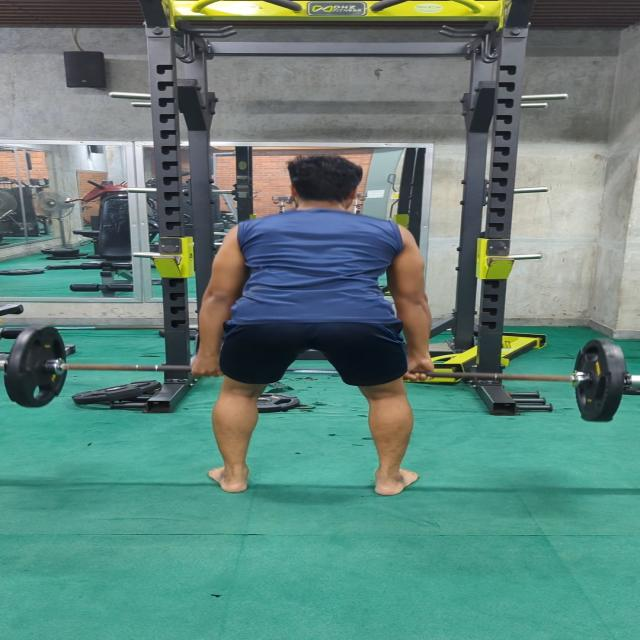Normal_Deadlifts: (188, 157, 432, 498)
